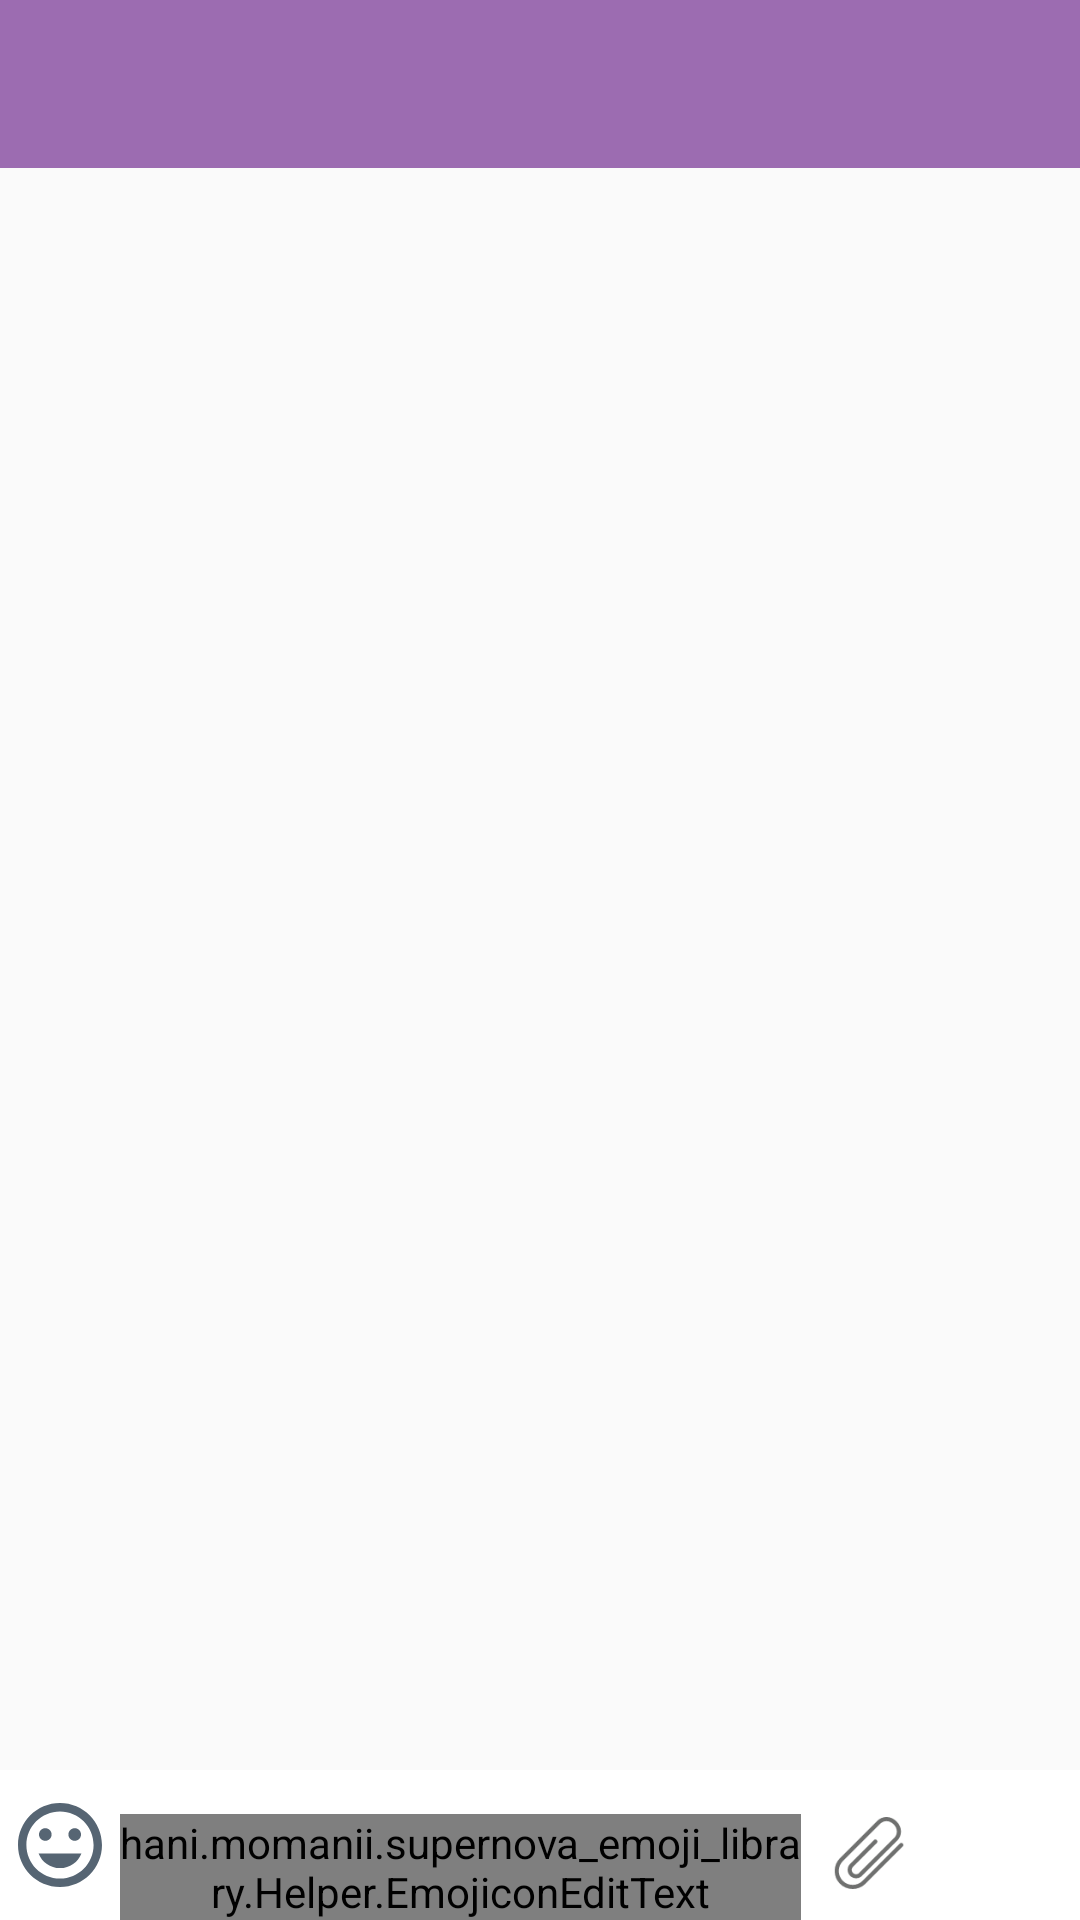

Screen size 1080w x 1920h. Icon name, then its box in pixels as BBox(x1, y1, x2, y2):
attachment: BBox(834, 1817, 904, 1889)
